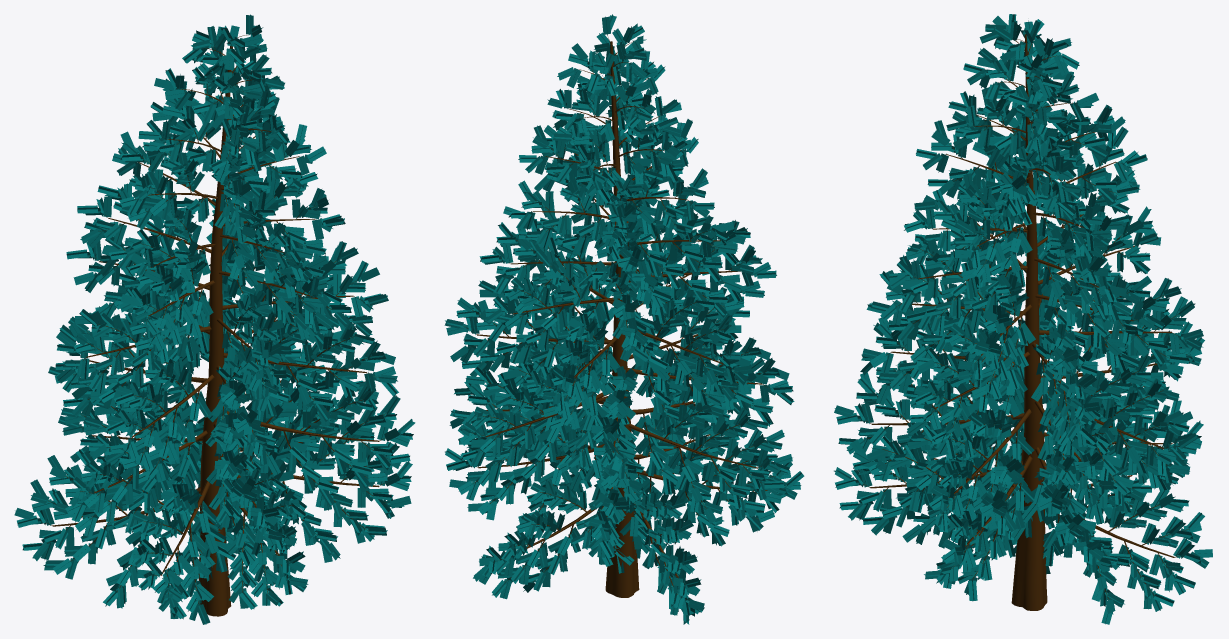
File: tree2.FBX
The picture shows the model from 3 angles, left to right: view 1: azimuth 30°, elevation 25°; view 2: azimuth 150°, elevation 25°; view 3: azimuth 270°, elevation 25°; orthographic projection. The views are drawn at different scales.
Visible parts, largest first — view 1: Foliage001; view 2: Foliage001; view 3: Foliage001.
Part boxes in pixels (left/top/right/bottom): Foliage001: left=14, top=14, right=415, bottom=624; Foliage001: left=444, top=14, right=804, bottom=624; Foliage001: left=834, top=14, right=1212, bottom=624.
Size of the model in its own units: 273 by 480 by 279.
